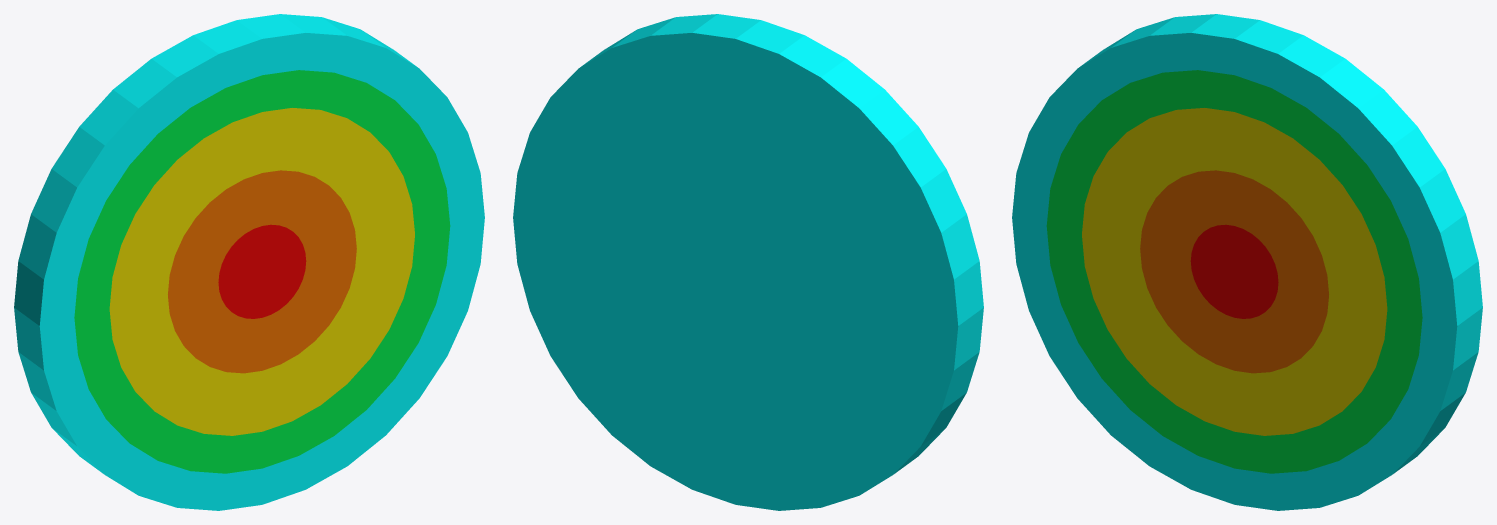
File: target.dae
The picture shows the model from 3 angles, left to right: view 1: azimuth 30°, elevation 25°; view 2: azimuth 150°, elevation 25°; view 3: azimuth 330°, elevation 25°; orthographic projection.
Parts seen in each view (by area): view 1: Cylinder; view 2: Cylinder; view 3: Cylinder.
Part boxes in pixels (x1,y1,x2,y2): Cylinder: (14, 14, 484, 510); Cylinder: (513, 14, 983, 510); Cylinder: (1012, 14, 1482, 510).
Size of the model in its own units: 2 by 0.2 by 2.
